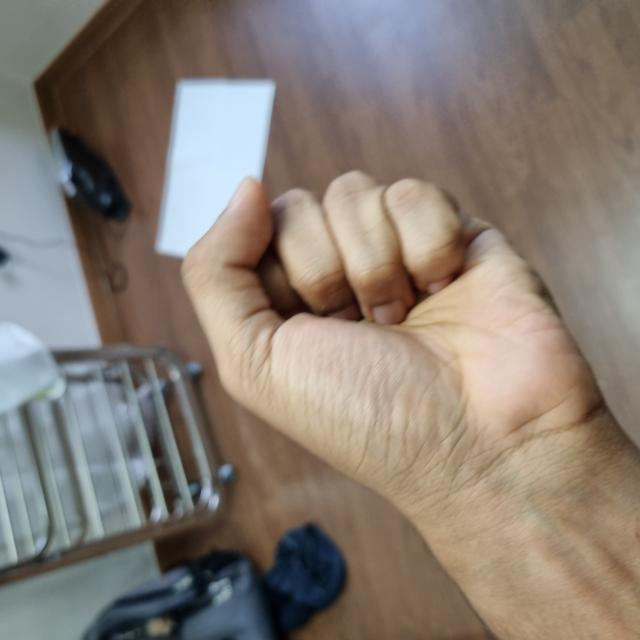Rock: (130, 188, 467, 575)
